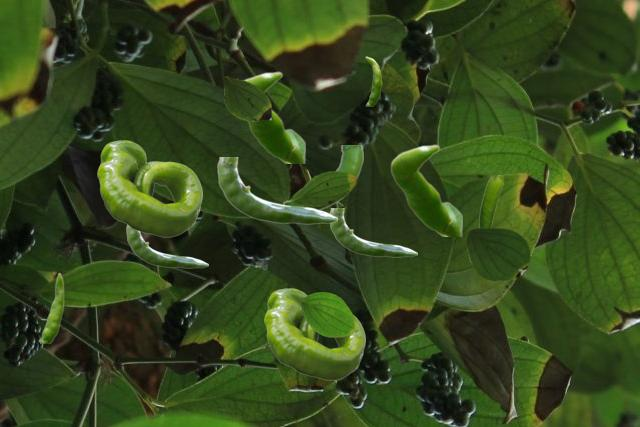green_chili: (97, 140, 201, 236), (264, 288, 364, 379), (217, 157, 336, 223), (390, 144, 461, 235), (242, 71, 304, 162), (282, 145, 362, 209), (329, 208, 416, 256), (126, 225, 207, 267), (40, 272, 63, 342), (479, 175, 502, 227), (365, 56, 381, 105)
